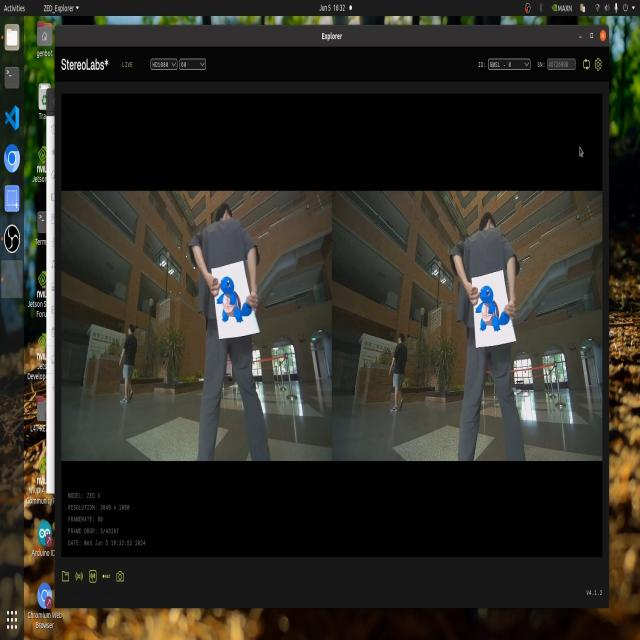blue: (469, 274, 513, 342), (219, 269, 249, 325)
